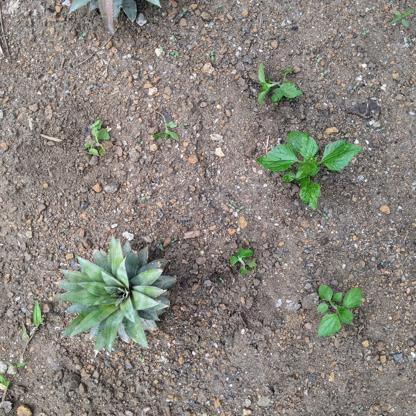pineapple: (55, 235, 179, 354), (60, 1, 168, 31)
weed: (257, 127, 363, 210), (312, 284, 367, 338), (252, 59, 304, 107), (84, 118, 114, 161), (226, 243, 263, 277), (152, 111, 183, 147)
